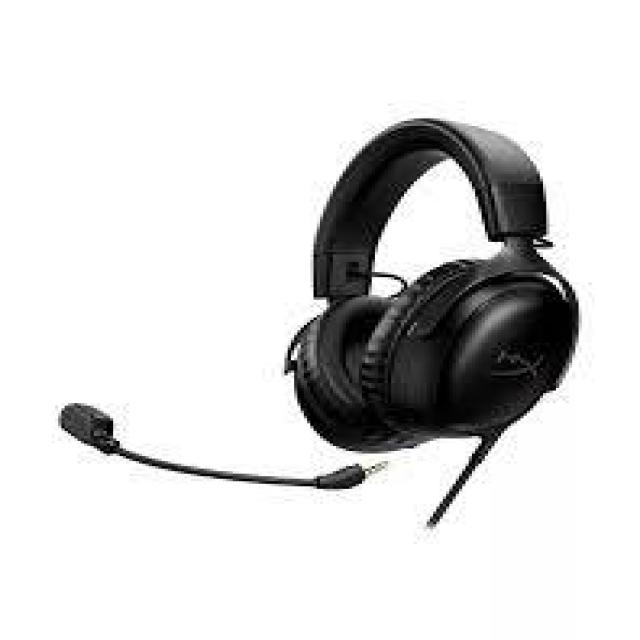headset: (285, 121, 585, 462)
